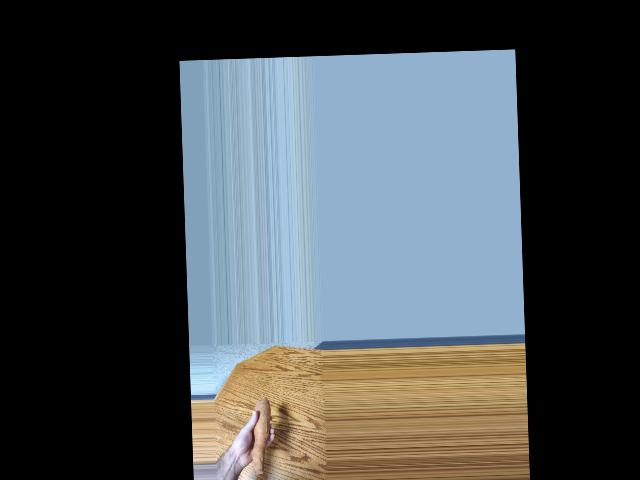sweet_potato: (248, 395, 275, 478)
